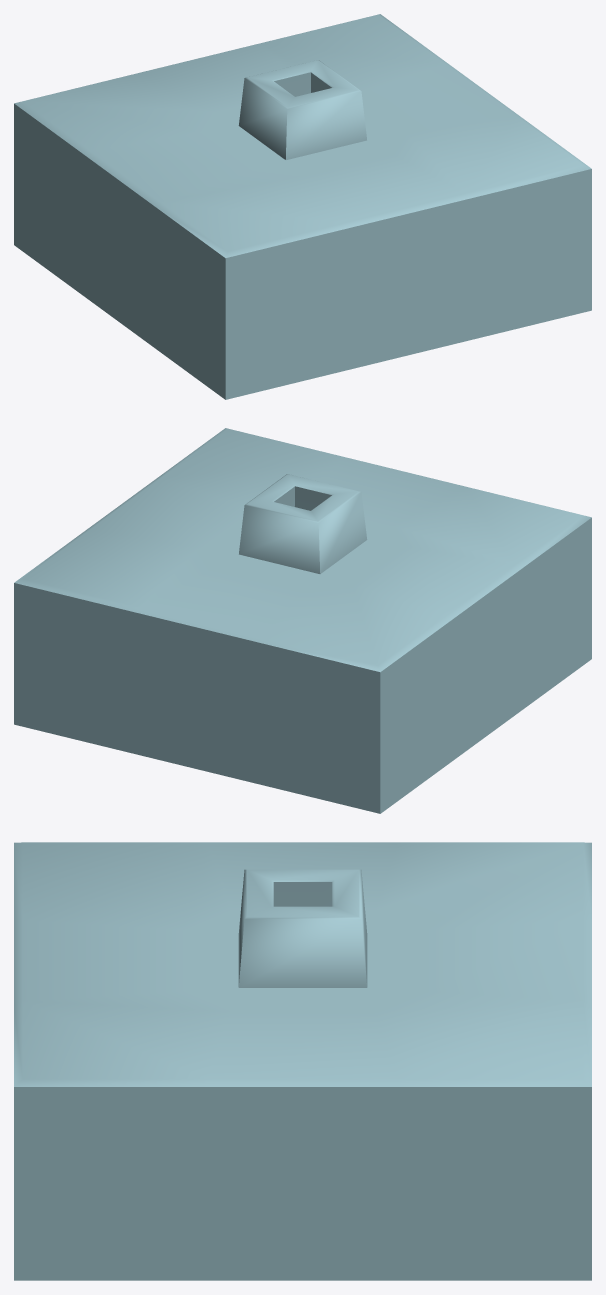
The model's file is square.fbx.
The picture shows the model from 3 angles, top to bottom: view 1: azimuth 30°, elevation 25°; view 2: azimuth 150°, elevation 25°; view 3: azimuth 270°, elevation 25°; orthographic projection. The views are drawn at different scales.
Parts seen in each view (by area): view 1: Mesh01; view 2: Mesh01; view 3: Mesh01.
Part boxes in pixels (x1,y1,x2,y2): Mesh01: [14, 14, 591, 399]; Mesh01: [14, 428, 591, 813]; Mesh01: [14, 842, 591, 1280].
Size of the model in its own units: 4 by 2.02 by 4.
